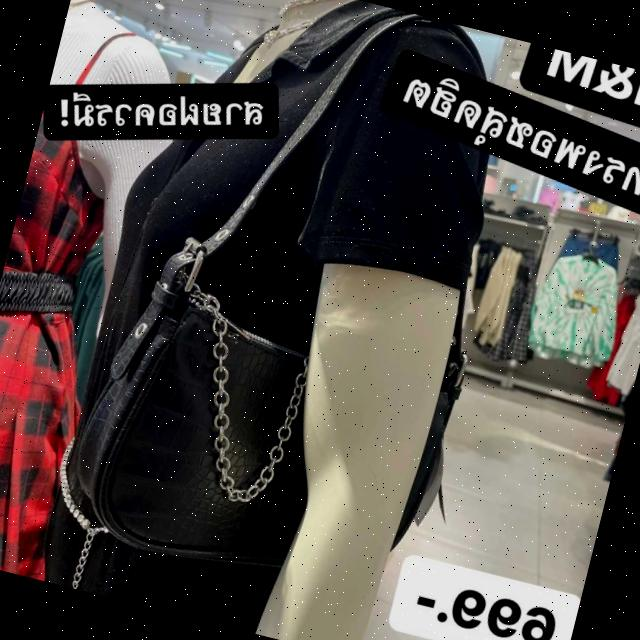handbag: (44, 228, 382, 607)
